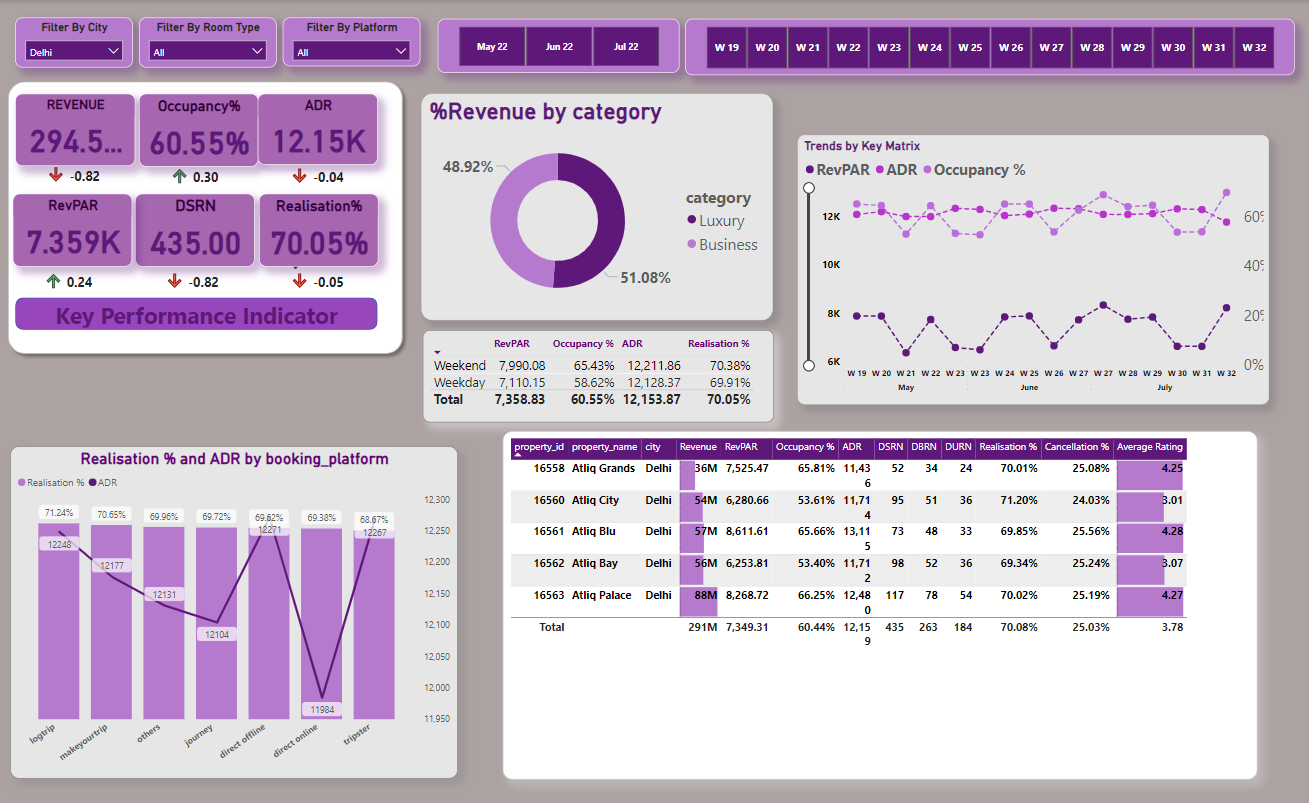

Layout of this report page (visuals, bound fields, positions):
{"tool":"powerbi","page":{"name":"home","canvas":[1800,1100],"ordinal":0},"visuals":[{"type":"tableEx","fields":{"Values":["dim_hotels.property_id","dim_hotels.property_name","dim_hotels.city","key_measure.Revenue","key_measure.RevPAR","key_measure.Occupancy %","key_measure.ADR","key_measure.DSRN","key_measure.DBRN","key_measure.DURN","key_measure.Realisation %","key_measure.Cancellation %"]},"box":[685.7,585.7,1026.8,473.2],"z":0},{"type":"shape","title":"KEY P","box":[3.4,102,554.3,387.6],"z":1000},{"type":"tableEx","fields":{"Values":["key_measure.Revenue WoW change %"]},"box":[55.4,192.5,95.7,68.6],"z":2000},{"type":"card","title":"REVENUE","fields":{"Values":["key_measure.Revenue"]},"box":[21.8,126.8,162.9,98.6],"z":3000},{"type":"tableEx","fields":{"Values":["key_measure.Occupancy WoW change %"]},"box":[224.9,193,95.2,69.1],"z":4000},{"type":"tableEx","fields":{"Values":["key_measure.ADR WoW change %"]},"box":[387.6,193,112.4,70.8],"z":5000},{"type":"tableEx","fields":{"Values":["key_measure.Revenue WoW change %"]},"box":[217.3,336.7,95.3,68.5],"z":6000},{"type":"tableEx","fields":{"Values":["key_measure.Realisation WoW change %"]},"box":[387.6,336.9,91,68.5],"z":7000},{"type":"tableEx","fields":{"Values":["key_measure.Revpar WoW change %"]},"box":[52.9,336.7,95.3,68.5],"z":8000},{"type":"card","title":"Occupancy%","fields":{"Values":["key_measure.Occupancy %"]},"box":[191.3,127.7,162.5,99],"z":9000},{"type":"card","title":"ADR","fields":{"Values":["key_measure.ADR"]},"box":[351.9,127.5,163.2,96.9],"z":10000},{"type":"card","title":"DSRN","fields":{"Values":["key_measure.DSRN"]},"box":[186.1,263,162.6,99],"z":11000},{"type":"card","title":"RevPAR","fields":{"Values":["key_measure.RevPAR"]},"box":[19.3,263,162.6,99],"z":12000},{"type":"card","title":"Realisation%","fields":{"Values":["key_measure.Realisation %"]},"box":[354.1,264.1,162.5,99],"z":13000},{"type":"slicer","title":"Filter By City","fields":{"Values":["dim_hotels.city"]},"box":[22.1,23.8,159.8,68],"z":14000},{"type":"slicer","title":"Filter By Room Type","fields":{"Values":["dim_rooms.room_class"]},"box":[190.4,23.8,187,68],"z":15000},{"type":"slicer","fields":{"Values":["dim_date.mmm yy"]},"box":[596.4,25,328.6,73.2],"z":16000},{"type":"slicer","title":"Filter By Week","fields":{"Values":["dim_date.week no"]},"box":[933.9,25,828.6,76.8],"z":17000},{"type":"donutChart","title":"%Revenue by category","fields":{"Category":["dim_hotels.category"],"Y":["key_measure.Revenue"]},"box":[574.7,127.5,477.7,307.7],"z":18000},{"type":"lineChart","title":"Trends by Key Matrix","fields":{"Category":["dim_date.mmm yy.Variation.Date Hierarchy.Month","dim_date.week no"],"Y":["key_measure.RevPAR","key_measure.ADR"],"Y2":["key_measure.Occupancy %"]},"box":[1085.7,183.9,641.1,366.1],"z":19000},{"type":"lineStackedColumnComboChart","fields":{"Category":["fact_bookings.booking_platform"],"Y":["key_measure.Realisation %"],"Y2":["key_measure.ADR"]},"box":[16.1,607.1,608.9,451.8],"z":20000},{"type":"tableEx","fields":{"Values":["dim_date.day_type","key_measure.RevPAR","key_measure.Occupancy %","key_measure.ADR","key_measure.Realisation %"]},"box":[576.4,448.8,477.7,125.8],"z":21000},{"type":"slicer","title":"Filter By Platform","fields":{"Values":["fact_bookings.booking_platform"]},"box":[385.9,23.8,187,66.3],"z":22000},{"type":"shape","box":[22.1,404.6,493,44.2],"z":23000}]}

Visuals, with their boxes in screenshot pixels (x1, y1, x2, y2), scaled from the page's 1800x1100 canvas onto the 1309x803 screenshot:
tableEx - dim_hotels.property_id x dim_hotels.property_name: (left=499, top=428, right=1245, bottom=773)
"KEY P" shape: (left=2, top=74, right=406, bottom=357)
tableEx - key_measure.Revenue WoW change %: (left=40, top=141, right=110, bottom=191)
"REVENUE" card: (left=16, top=93, right=134, bottom=165)
tableEx - key_measure.Occupancy WoW change %: (left=164, top=141, right=233, bottom=191)
tableEx - key_measure.ADR WoW change %: (left=282, top=141, right=364, bottom=193)
tableEx - key_measure.Revenue WoW change %: (left=158, top=246, right=227, bottom=296)
tableEx - key_measure.Realisation WoW change %: (left=282, top=246, right=348, bottom=296)
tableEx - key_measure.Revpar WoW change %: (left=38, top=246, right=108, bottom=296)
"Occupancy%" card: (left=139, top=93, right=257, bottom=165)
"ADR" card: (left=256, top=93, right=375, bottom=164)
"DSRN" card: (left=135, top=192, right=254, bottom=264)
"RevPAR" card: (left=14, top=192, right=132, bottom=264)
"Realisation%" card: (left=258, top=193, right=376, bottom=265)
"Filter By City" slicer: (left=16, top=17, right=132, bottom=67)
"Filter By Room Type" slicer: (left=138, top=17, right=274, bottom=67)
slicer - dim_date.mmm yy: (left=434, top=18, right=673, bottom=72)
"Filter By Week" slicer: (left=679, top=18, right=1282, bottom=74)
"%Revenue by category" donutChart: (left=418, top=93, right=765, bottom=318)
"Trends by Key Matrix" lineChart: (left=790, top=134, right=1256, bottom=402)
lineStackedColumnComboChart - fact_bookings.booking_platform x key_measure.Realisation %: (left=12, top=443, right=455, bottom=773)
tableEx - dim_date.day_type x key_measure.RevPAR: (left=419, top=328, right=767, bottom=419)
"Filter By Platform" slicer: (left=281, top=17, right=417, bottom=66)
shape: (left=16, top=295, right=375, bottom=328)
